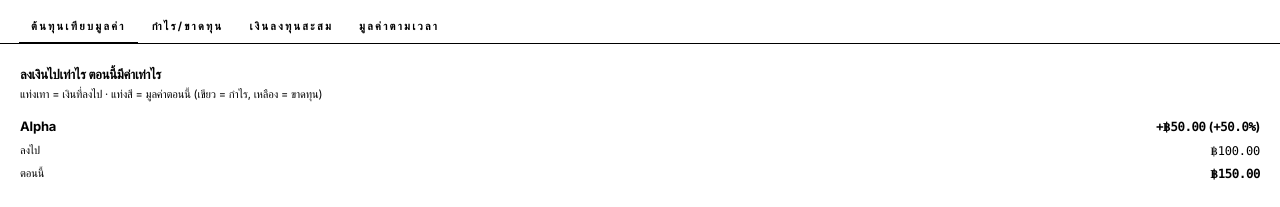
CostVsValue history tab › with fewer than two days it explains and counts the days it has
The image size is (1280, 207).
Click the tab "มูลค่าตามเวลา" at x=399, y=28, box top-left (347, 12), bottom-right (451, 44)
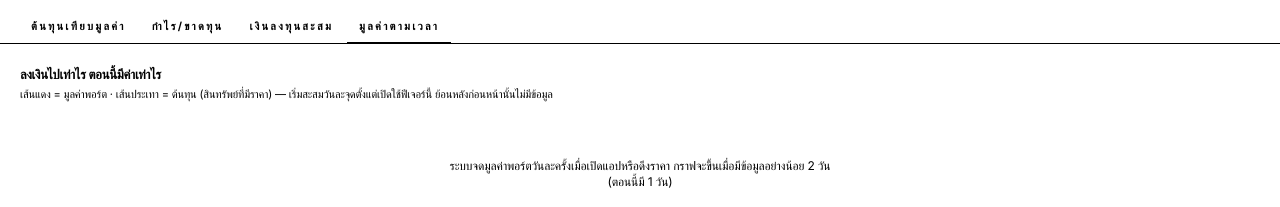
Result: the text "กราฟจะขึ้นเมื่อมีข้อมูลอย่างน้อย 2 วัน (ตอนนี้มี 1 วัน)" is shown at top-left (448, 158), bottom-right (832, 190)
